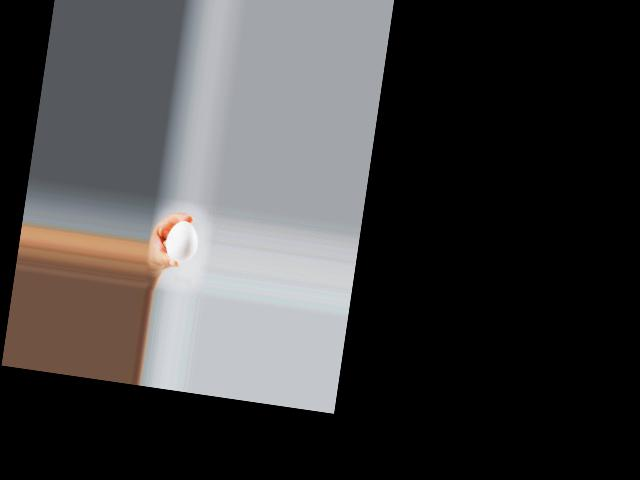egg: (163, 218, 200, 263)
